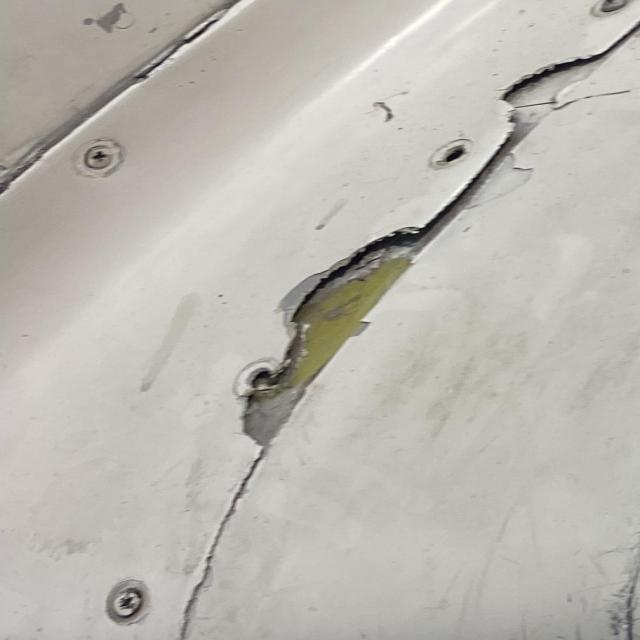Crack: (240, 229, 432, 447), (502, 56, 598, 128)
Missing-head: (427, 139, 469, 168)
Paint-off: (460, 144, 530, 207), (77, 2, 131, 33)
